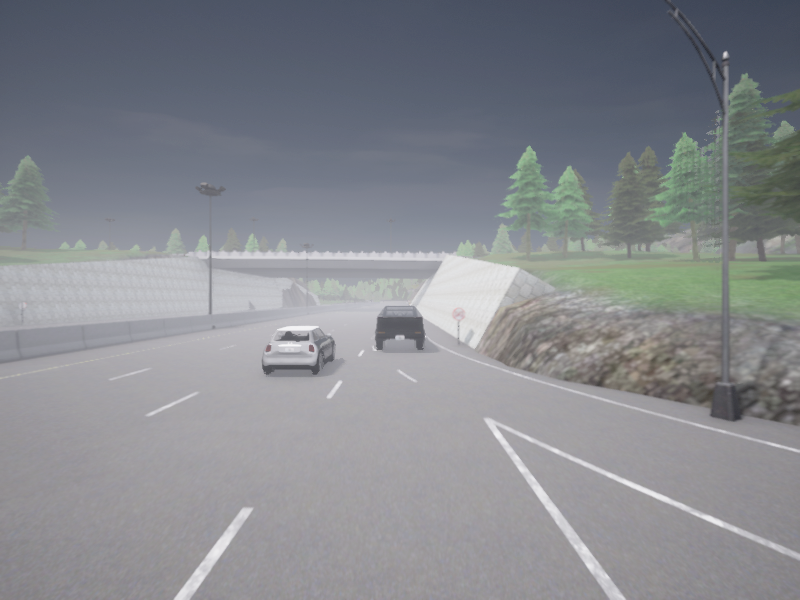vehicle: (262, 326, 335, 373), (374, 306, 425, 348)
